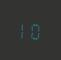one: (19, 19, 29, 39)
zero: (30, 20, 40, 40)
